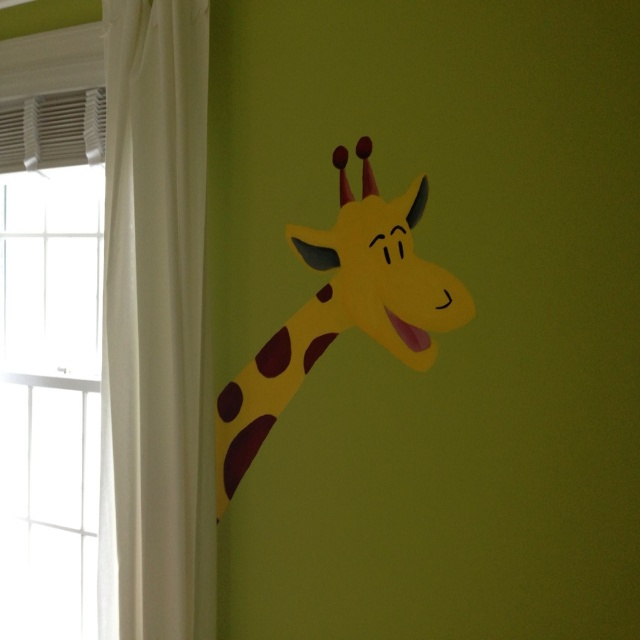Giraffe: (212, 149, 475, 546)
